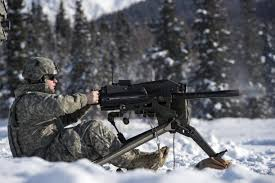gun: (83, 78, 241, 129)
